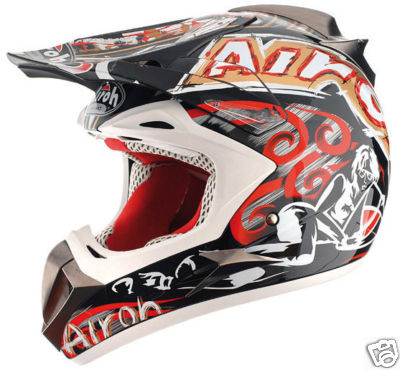helmet: (54, 20, 380, 309)
